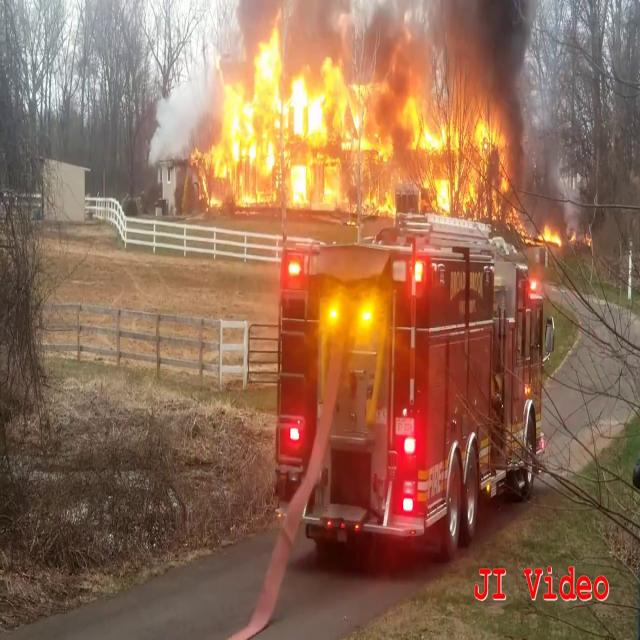Fire: (199, 18, 513, 227), (538, 213, 566, 252)
Smoke: (144, 44, 226, 188)
